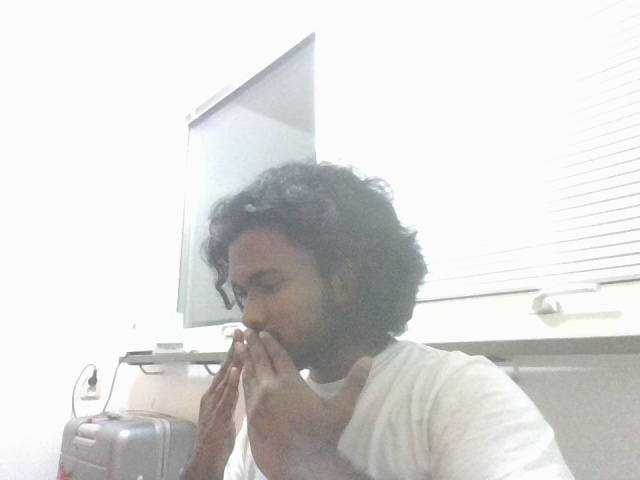Thanks: (179, 321, 406, 476)
